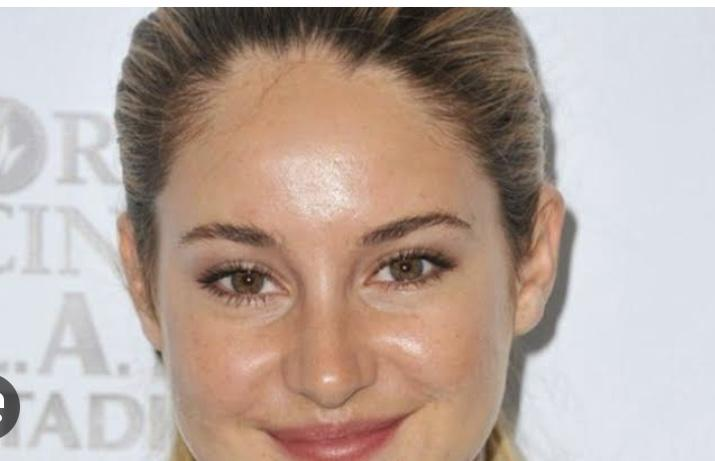Oily-Skin: (369, 288, 479, 425), (265, 95, 361, 228), (182, 326, 288, 435)
